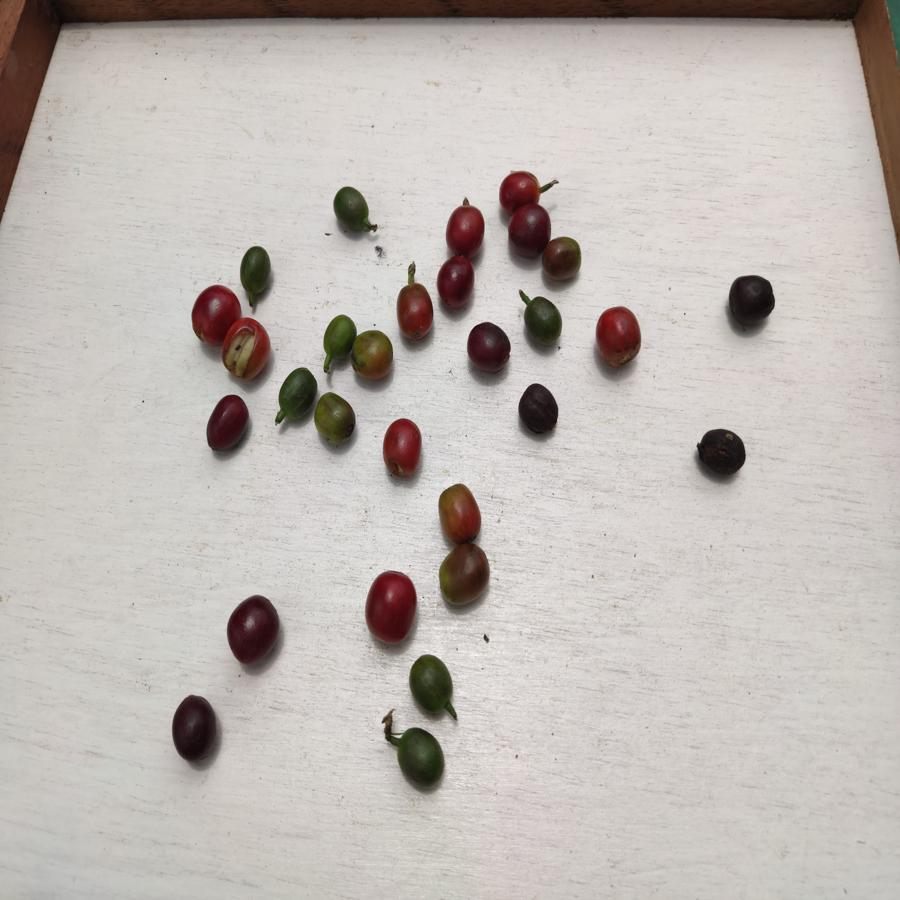Inmaduro: (397, 726, 445, 790), (409, 650, 452, 711), (278, 366, 315, 425), (332, 185, 372, 236), (524, 294, 561, 346), (239, 245, 273, 296), (320, 314, 351, 363)
Maduro: (364, 568, 420, 643), (188, 282, 238, 345), (220, 317, 270, 380), (596, 306, 645, 367), (382, 417, 423, 478), (393, 285, 434, 340), (443, 205, 486, 255), (497, 169, 557, 203)
Pinton: (436, 544, 492, 605), (438, 483, 485, 543), (314, 391, 360, 443), (349, 329, 394, 380), (543, 236, 582, 285)
Sobremaduro: (227, 594, 281, 663), (171, 693, 217, 763), (203, 393, 252, 455), (728, 273, 776, 326), (467, 322, 513, 375), (516, 384, 564, 434), (695, 427, 747, 473), (509, 203, 545, 259), (436, 257, 473, 306)
